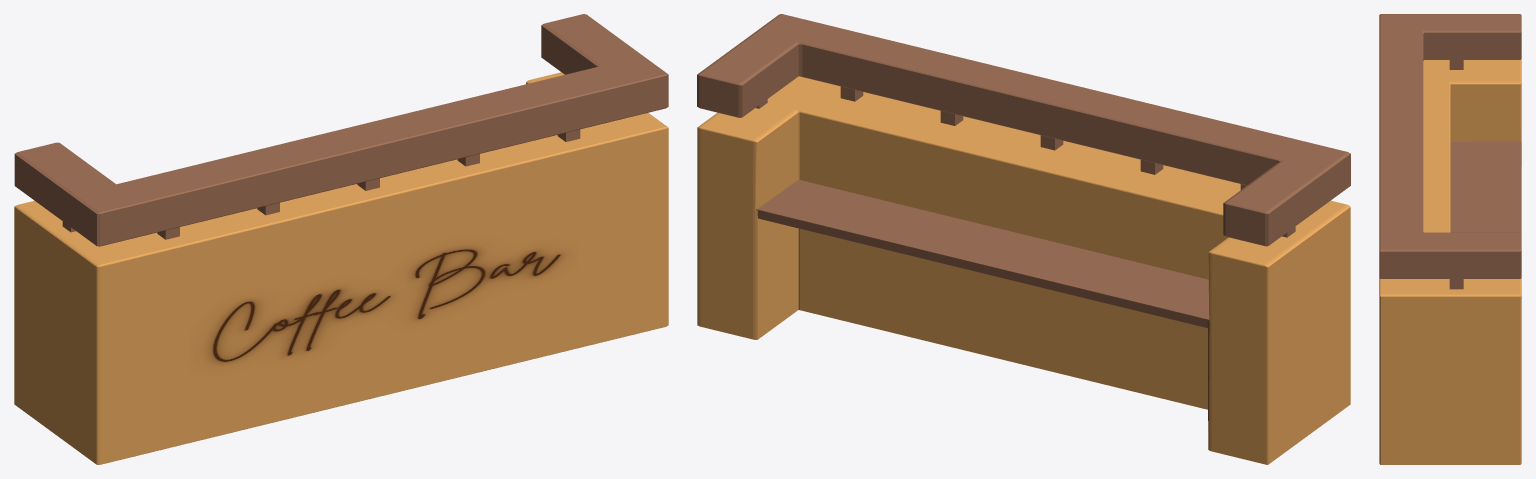
The model's file is classic_bar.fbx.
3 views of the same model, side by side, from view 1: azimuth 30°, elevation 25°; view 2: azimuth 150°, elevation 25°; view 3: azimuth 270°, elevation 25° (orthographic). The views are drawn at different scales.
Visible parts, largest first — view 1: ClassicBar; view 2: ClassicBar; view 3: ClassicBar.
Boxes of the visible parts, x1,y1,x2,y2 form: ClassicBar: [14, 14, 668, 464]; ClassicBar: [697, 14, 1350, 464]; ClassicBar: [1379, 14, 1521, 464].
Bounding box in the file's own units: 3000 × 1264 × 759.
Materials: 3 (1 with a texture image).
